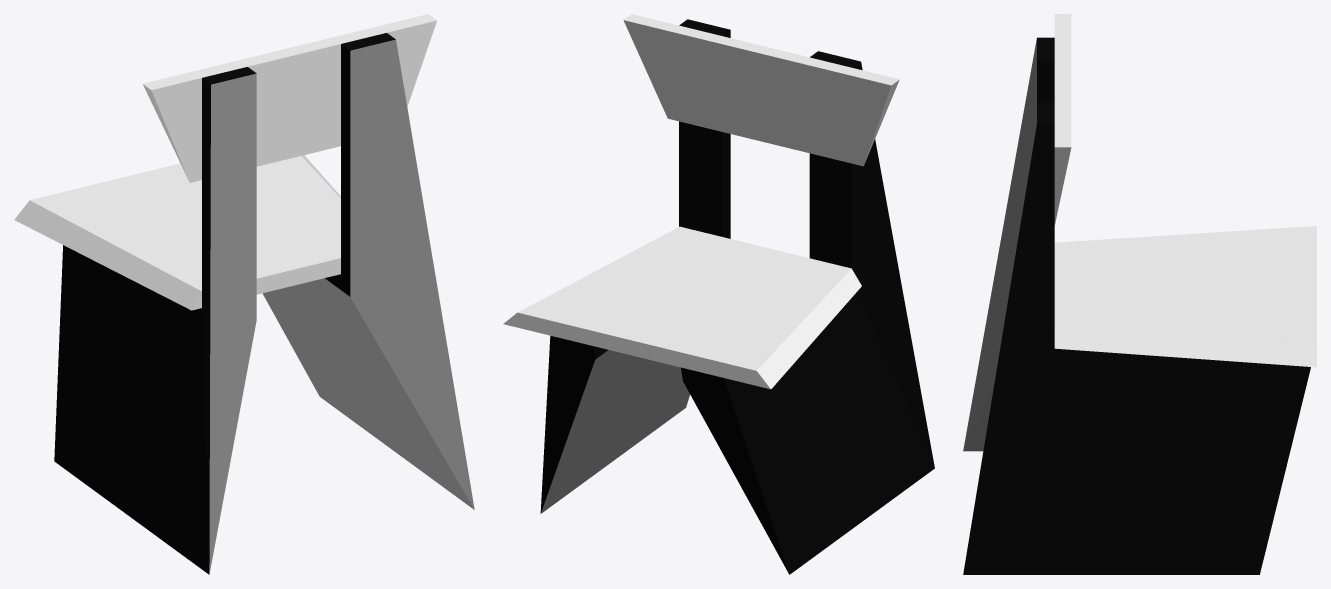
The model's file is ChairA.fbx.
The picture shows the model from 3 angles, left to right: view 1: azimuth 30°, elevation 25°; view 2: azimuth 150°, elevation 25°; view 3: azimuth 270°, elevation 25°; orthographic projection. The views are drawn at different scales.
Parts seen in each view (by area): view 1: ChairA; view 2: ChairA; view 3: ChairA.
Part boxes in pixels (x1=…): ChairA: x1=14, y1=14, x2=474, y2=574; ChairA: x1=503, y1=14, x2=934, y2=574; ChairA: x1=963, y1=14, x2=1316, y2=574.
Size of the model in its own units: 33.91 by 51.27 by 38.01.
1 material, 1 textured.
